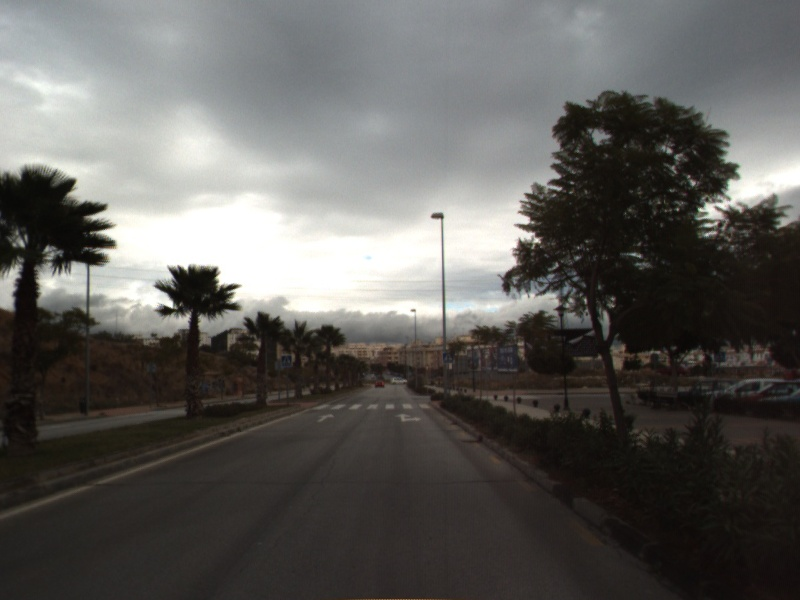STRAIGHT: (315, 412, 337, 424)
STRAIGHT_RIGHT: (393, 411, 424, 424)
